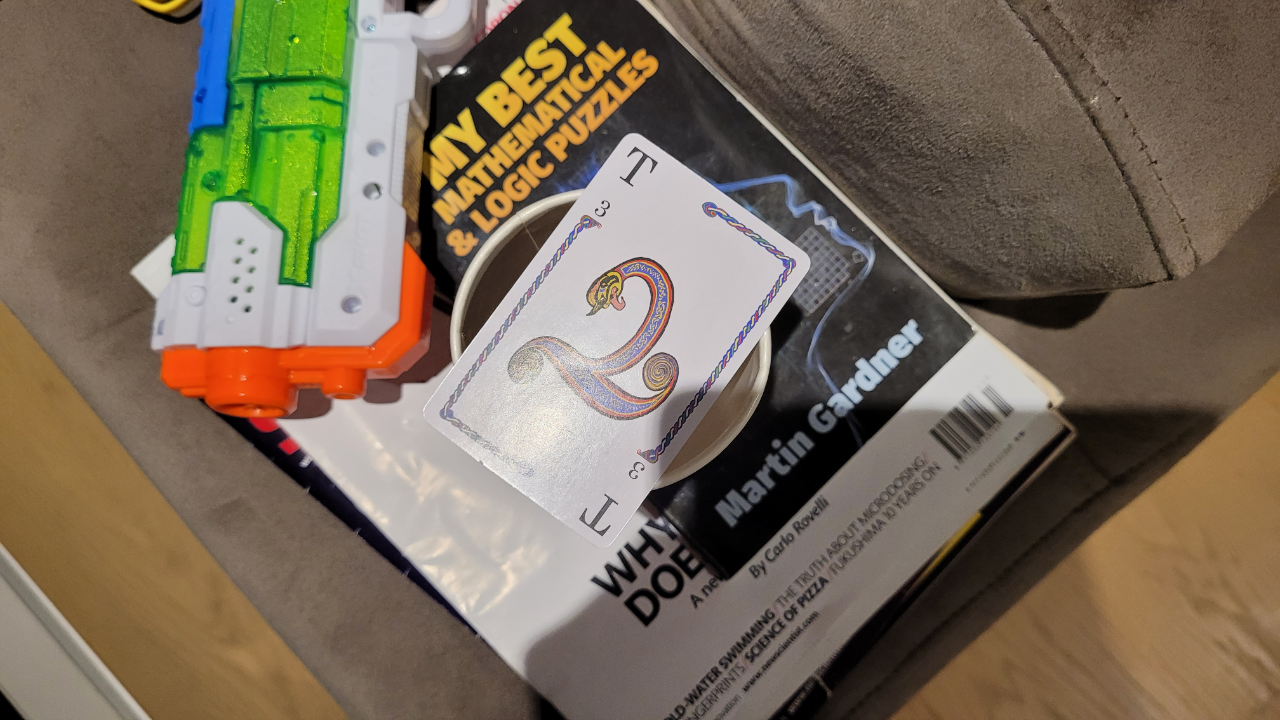quiddler_card: (406, 119, 813, 564)
